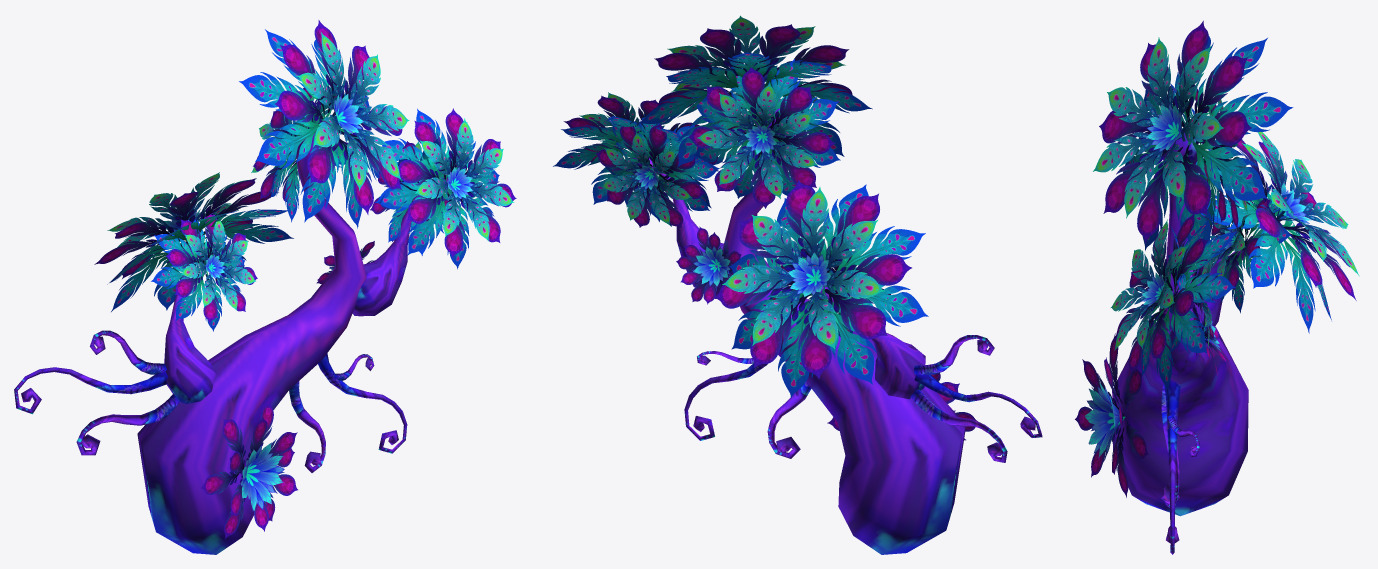
File: Blue_Tree_09b.FBX
The picture shows the model from 3 angles, left to right: view 1: azimuth 30°, elevation 25°; view 2: azimuth 150°, elevation 25°; view 3: azimuth 270°, elevation 25°; orthographic projection. The views are drawn at different scales.
Parts seen in each view (by area): view 1: Blue_Tree_09b; view 2: Blue_Tree_09b; view 3: Blue_Tree_09b.
Boxes of the visible parts, x1,y1,x2,y2 form: Blue_Tree_09b: (14, 20, 516, 554); Blue_Tree_09b: (553, 15, 1042, 554); Blue_Tree_09b: (1075, 20, 1359, 554).
Size of the model in its own units: 467 by 458 by 221.
